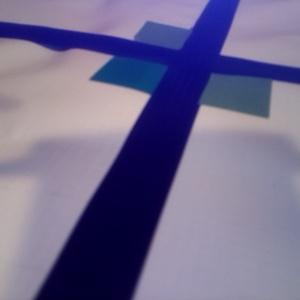bottom_left: (91, 49, 202, 94)
bottom_right: (169, 64, 272, 117)
top_left: (134, 19, 219, 56)
